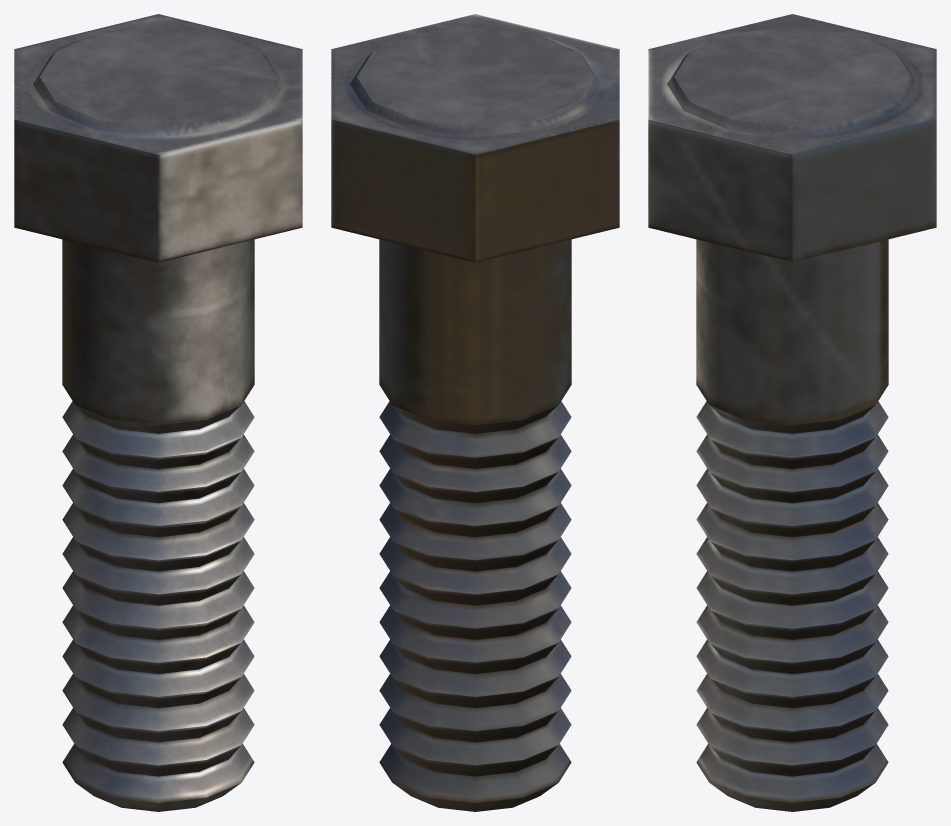
Rendered from tool_Bolt.fbx.
3 renders of one model, left to right at view 1: azimuth 30°, elevation 25°; view 2: azimuth 150°, elevation 25°; view 3: azimuth 270°, elevation 25°, orthographic.
Parts seen in each view (by area): view 1: Bolt; view 2: Bolt; view 3: Bolt.
Part boxes in pixels (x1,y1,x2,y2): Bolt: (14,14,302,811); Bolt: (331,14,619,811); Bolt: (648,14,936,811).
Bounding box in the file's own units: 4.21 × 9.82 × 3.65.
